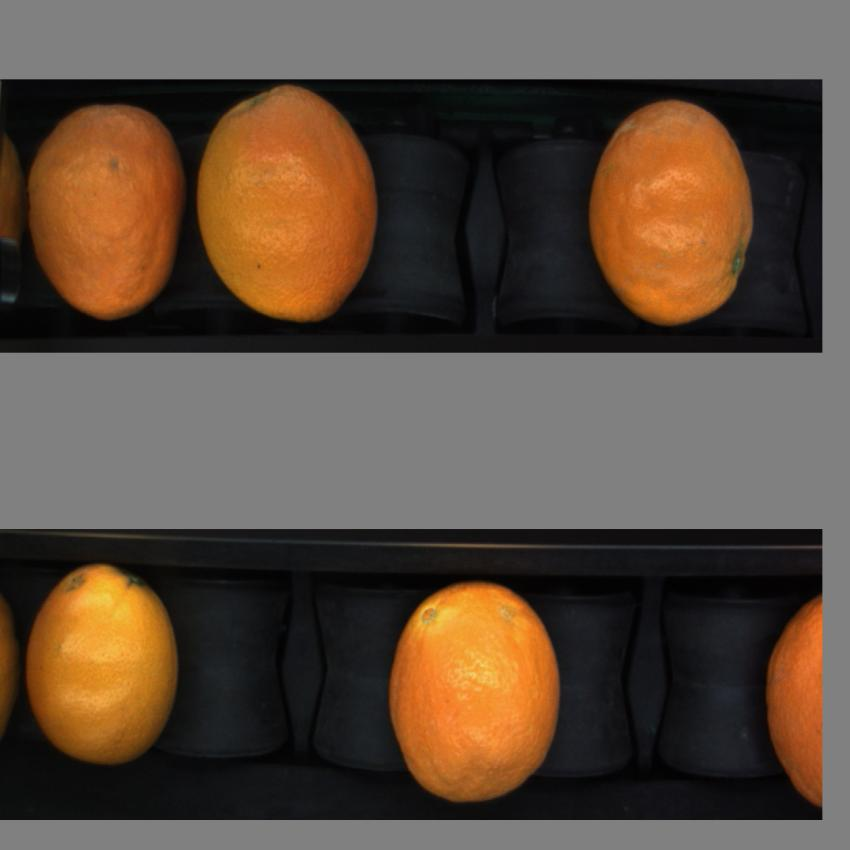Buen estado: (197, 82, 389, 322), (385, 578, 577, 813), (588, 100, 758, 321), (20, 558, 183, 777), (758, 587, 824, 814)
Mal estado: (24, 102, 189, 330)
